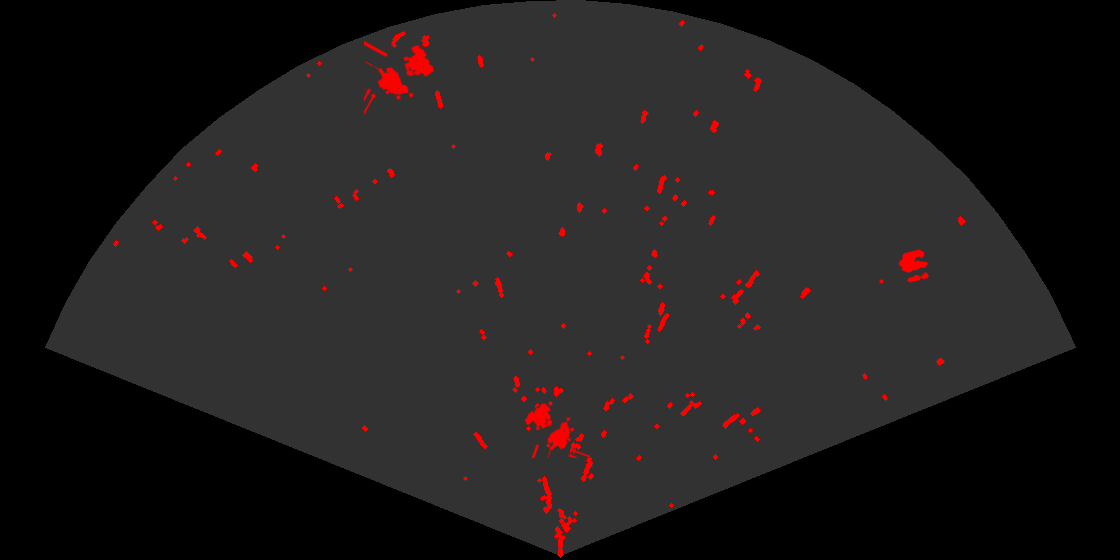ball: (897, 248, 931, 284)
cage: (364, 39, 435, 116), (523, 401, 590, 458)
